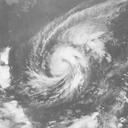cyclone: (26, 22, 105, 101)
